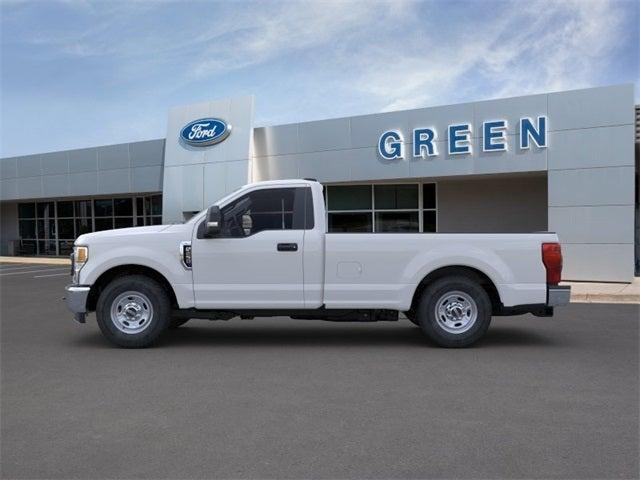pickup-truck: (62, 179, 572, 350)
